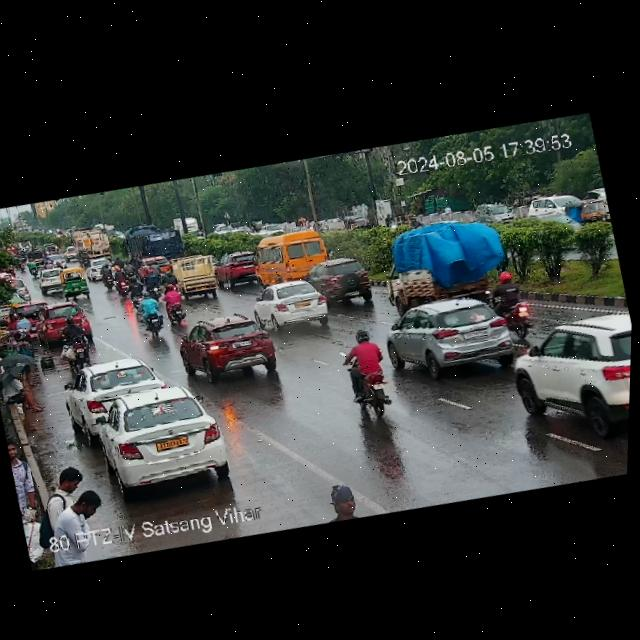car: (71, 371, 233, 507), (511, 305, 632, 442), (384, 282, 528, 386), (171, 302, 283, 388), (63, 348, 169, 429), (251, 272, 333, 335), (35, 297, 94, 345), (525, 188, 581, 222), (216, 249, 263, 289), (568, 194, 612, 231), (57, 264, 95, 301), (477, 196, 517, 230), (134, 248, 173, 282), (36, 265, 61, 297), (342, 212, 368, 233), (84, 259, 102, 279), (61, 245, 76, 266), (29, 247, 44, 266), (43, 241, 59, 257), (19, 239, 34, 252)
motorcycle: (336, 321, 395, 419), (309, 250, 377, 310), (484, 272, 540, 330), (54, 307, 96, 368), (132, 287, 169, 337), (156, 278, 193, 326), (100, 257, 139, 298), (144, 256, 166, 296), (382, 210, 399, 232), (14, 249, 29, 272), (44, 256, 63, 272), (26, 257, 38, 276), (408, 213, 421, 228)
person: (49, 462, 101, 524), (306, 480, 373, 528), (5, 440, 41, 524), (0, 363, 48, 418), (53, 460, 87, 493), (11, 308, 40, 343)
truck: (372, 206, 515, 325), (249, 226, 325, 290), (121, 213, 184, 263), (168, 250, 224, 302), (67, 219, 113, 264), (175, 213, 205, 241)
